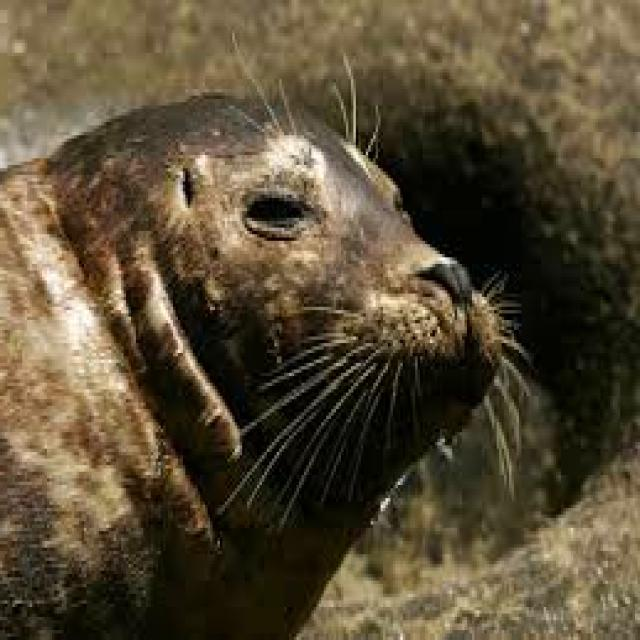seal: (2, 92, 529, 637)
